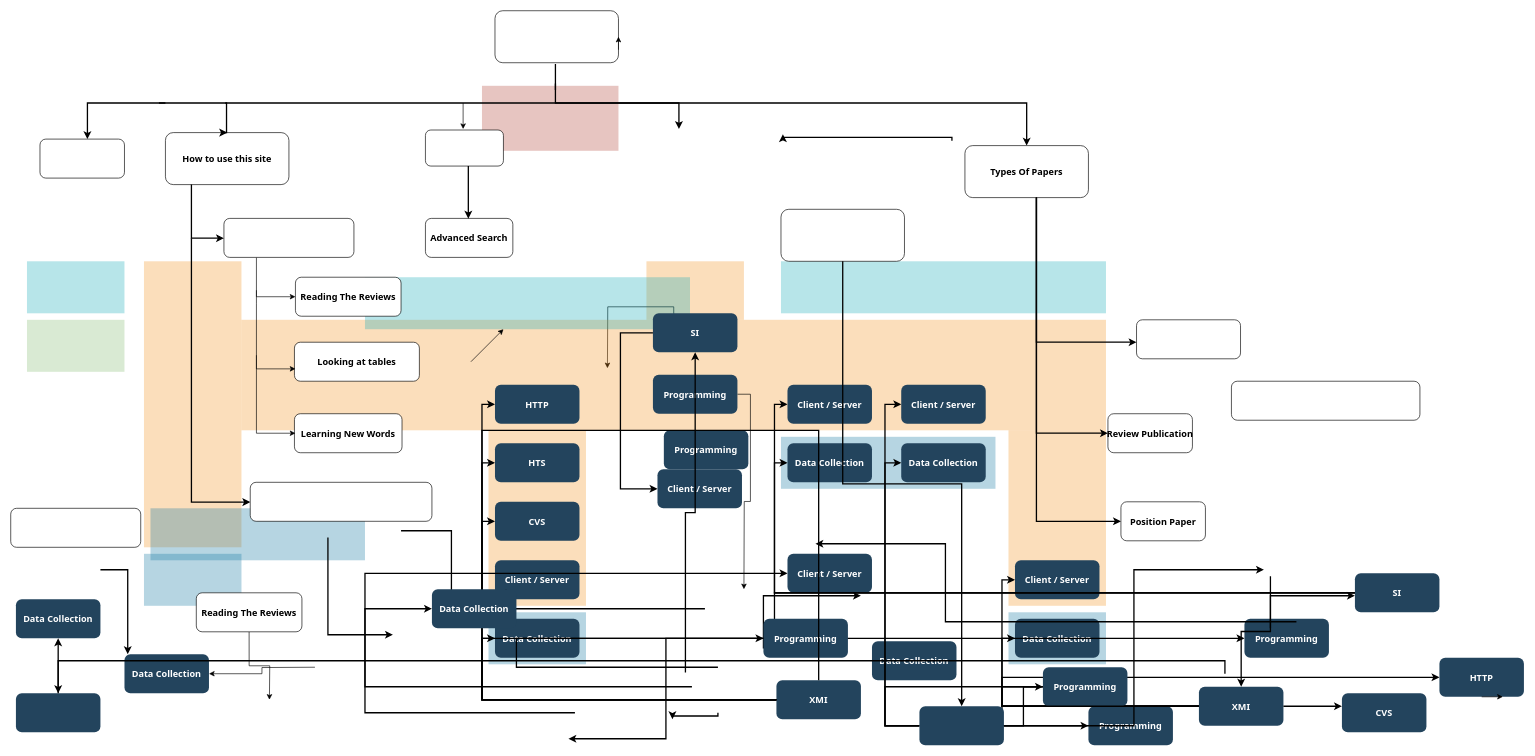
This 1535x756 diagram has some shape labels left out. Here are the shapes that lost their labels. From the top down, the centre of each, then its label:
At (556,36): "Home".
At (81,158): "About".
At (464,147): "Search".
At (288,237): "Search For Reviews".
At (1188,339): "Research Publication".
At (1325,400): "Research and review materials".
At (341,501): "Seeing Relationships Between Papers".
At (75,527): "Searching For Reviews".
At (58,712): "Regular Report".
At (961,725): "SSI".
